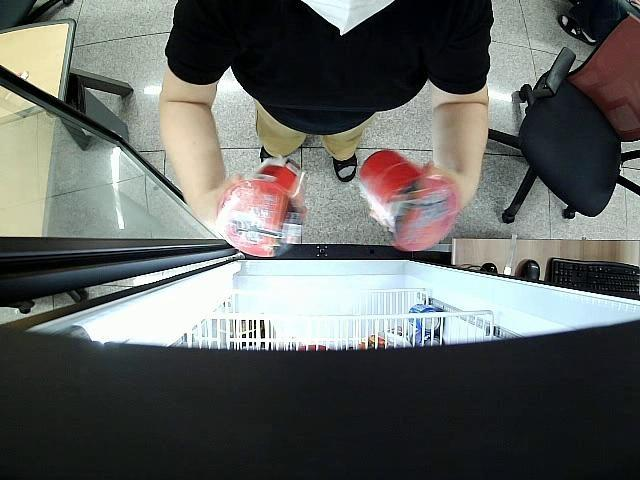02_shinRamen_S: (357, 150, 460, 250), (216, 156, 306, 254)
